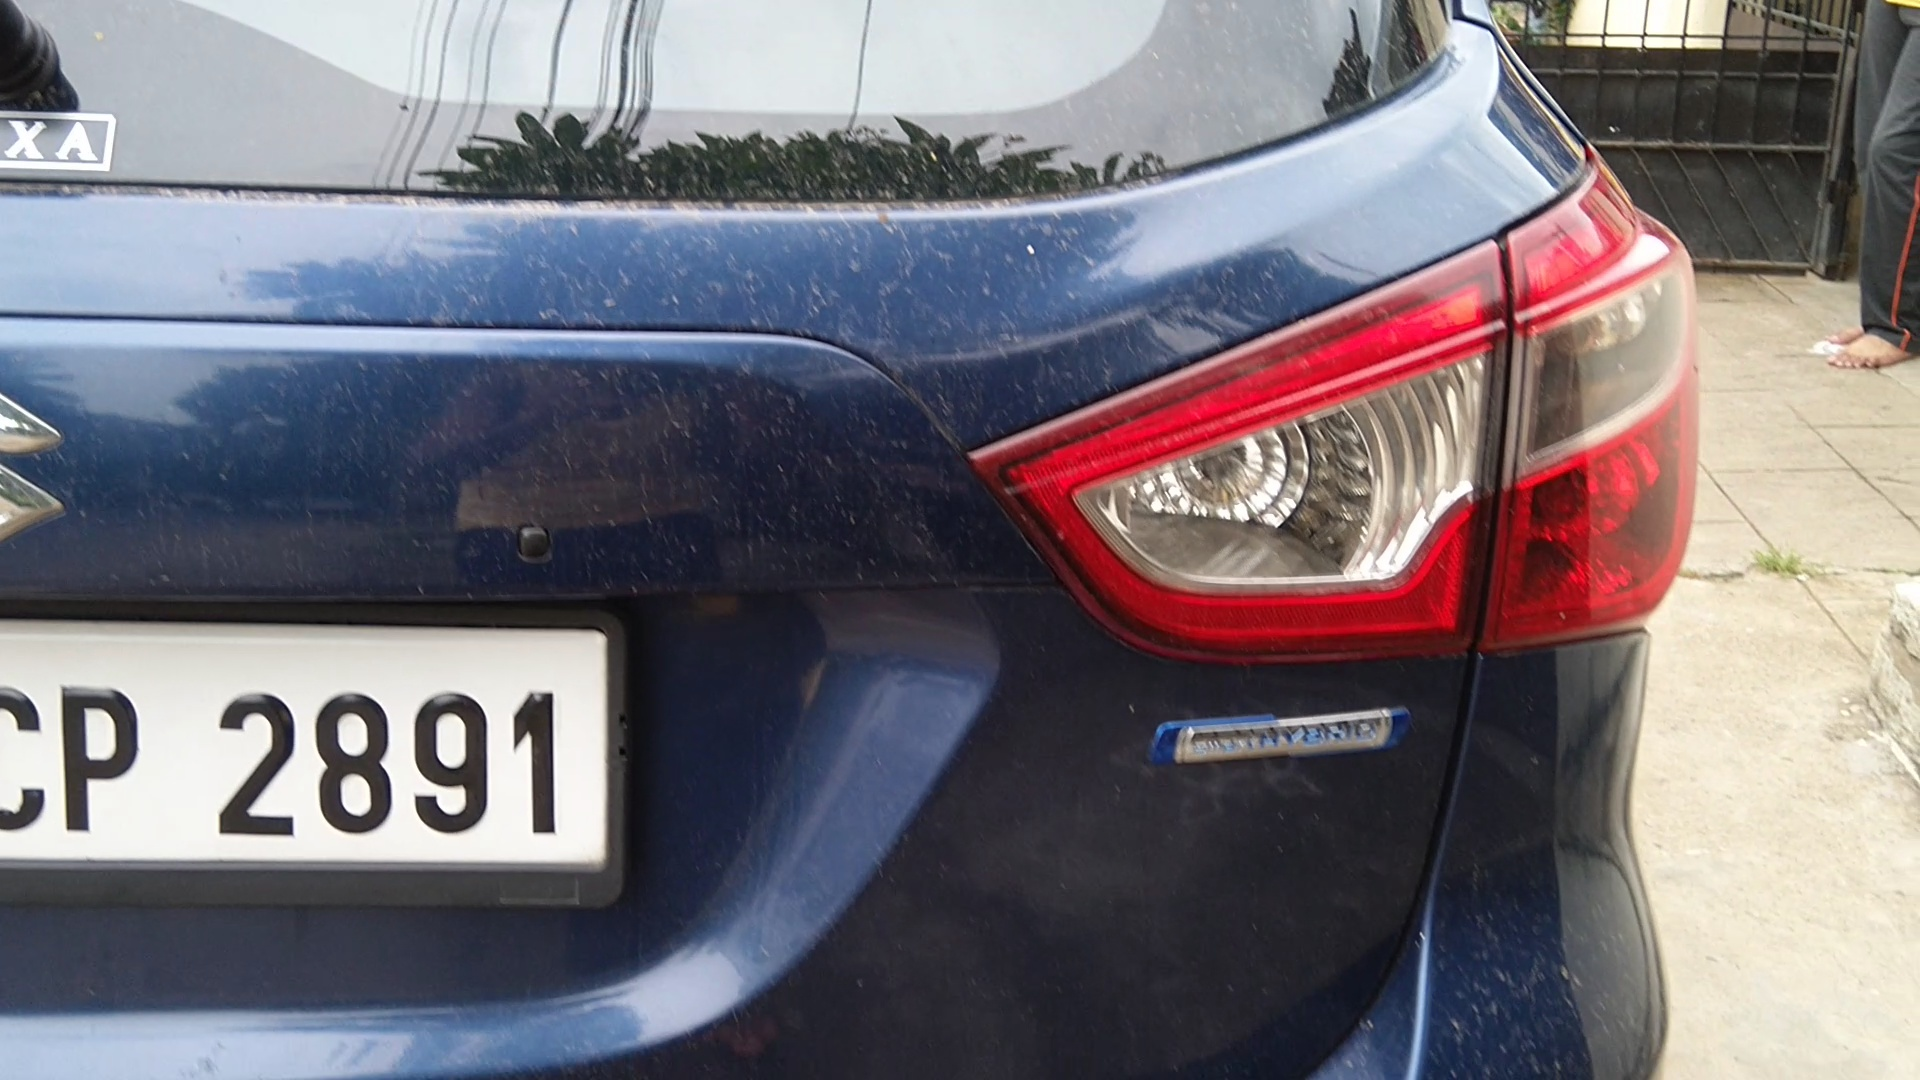shvs: (1135, 666, 1451, 802)
